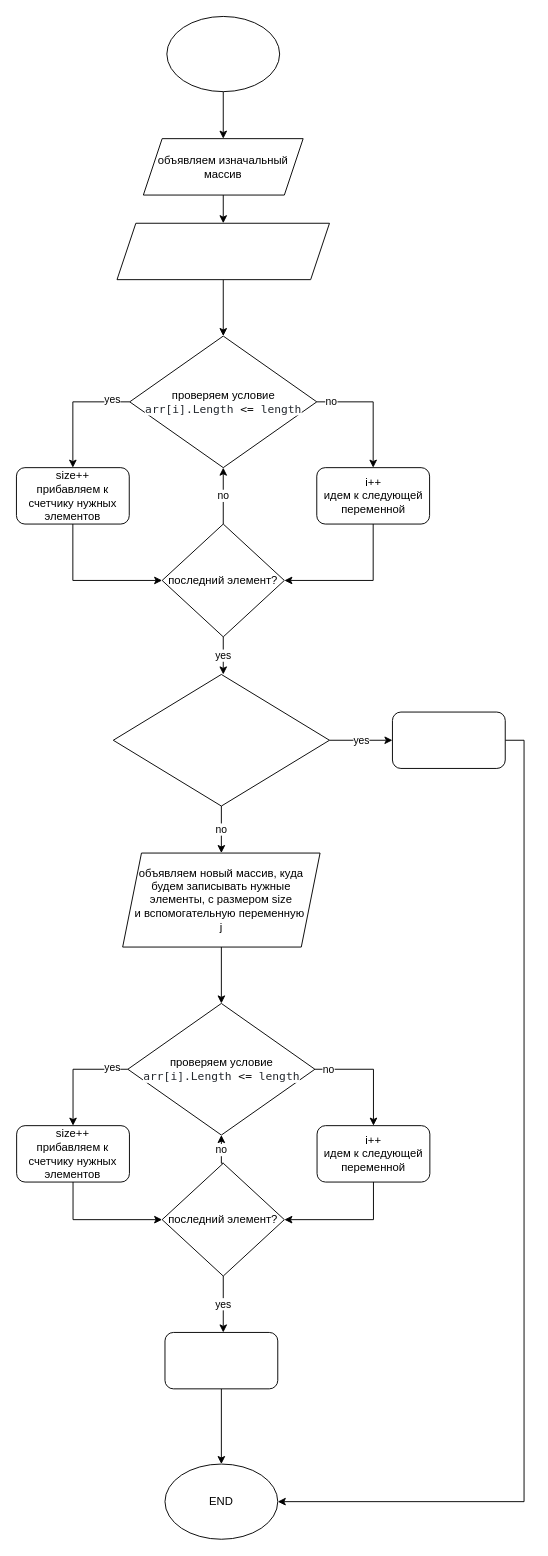
Some shapes in this 548 by 1556 pixel diagram are drawn without their labels. Each missing label, with the box of its shape:
start: (166, 16, 280, 92)
вводим две вспомогательные переменные length = 3 ; size = 0;: (116, 222, 329, 280)
выводим новый массив finalArray: (164, 1332, 278, 1389)
Выводим что нужных элементов нет: (392, 711, 505, 768)
проверим есть ли подходящие элементы если size = 0: (112, 674, 329, 806)
